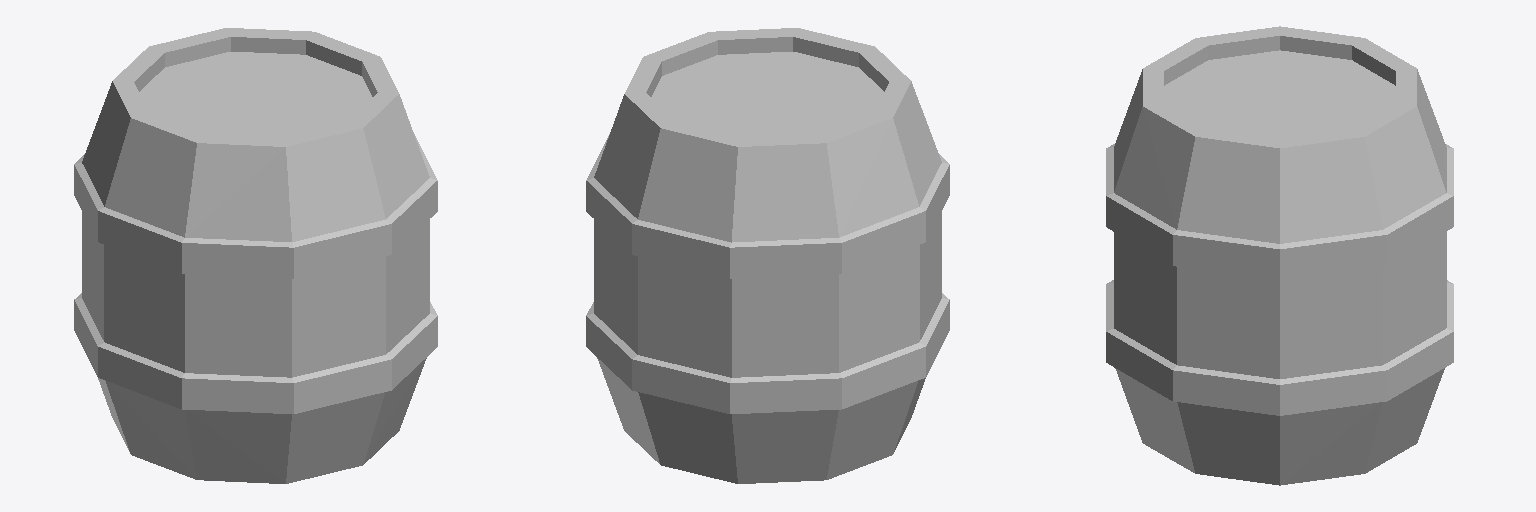
The model's file is barrel.obj.
3 views of the same model, side by side, from view 1: azimuth 30°, elevation 25°; view 2: azimuth 150°, elevation 25°; view 3: azimuth 270°, elevation 25° (orthographic).
Parts seen in each view (by area): view 1: Barrel_w_Barrel_w_0; view 2: Barrel_w_Barrel_w_0; view 3: Barrel_w_Barrel_w_0.
Boxes of the visible parts, <box> form: Barrel_w_Barrel_w_0: <box>74,28,437,483</box>; Barrel_w_Barrel_w_0: <box>586,28,949,483</box>; Barrel_w_Barrel_w_0: <box>1106,26,1453,485</box>.
Size of the model in its own units: 0.2162 by 0.2202 by 0.2055.